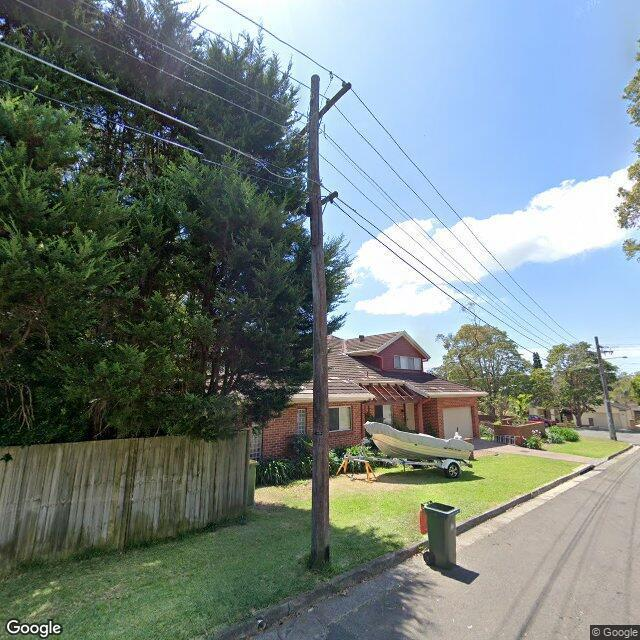crossarm: (287, 84, 353, 146), (296, 190, 340, 218), (595, 350, 614, 354)
streetlight: (603, 355, 628, 360)
timber-pole: (307, 74, 331, 573), (594, 336, 617, 441)
